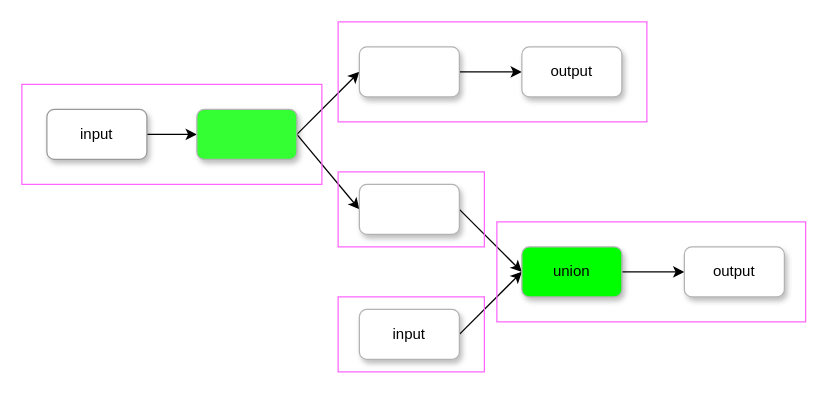
The diagram is 828 pixels wide and 394 high, and some of its shapes have lost their labels. The centre of each missing label's shape, as x and y in pixels:
"filter" goes at pixel 410 210.
"select" goes at pixel 247 135.
"textSplit" goes at pixel 410 73.
